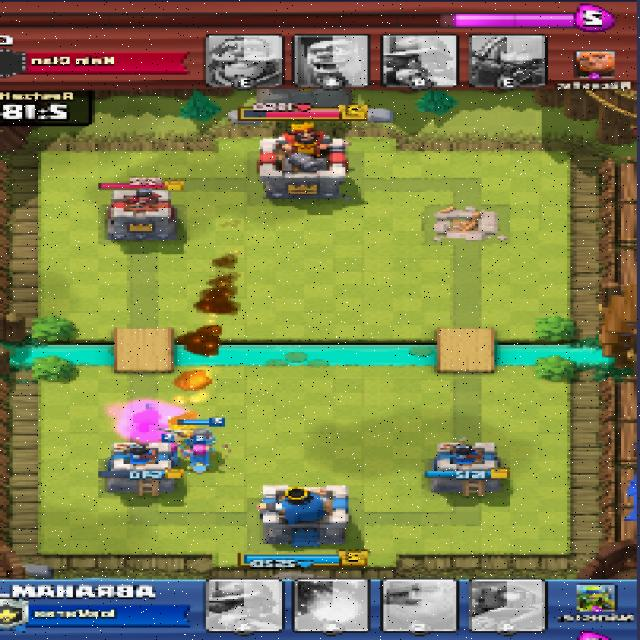Enemy-Fireball: (159, 369, 218, 437)
Player-Knight: (169, 426, 218, 451)
Player-Musketeer: (183, 445, 215, 472)
